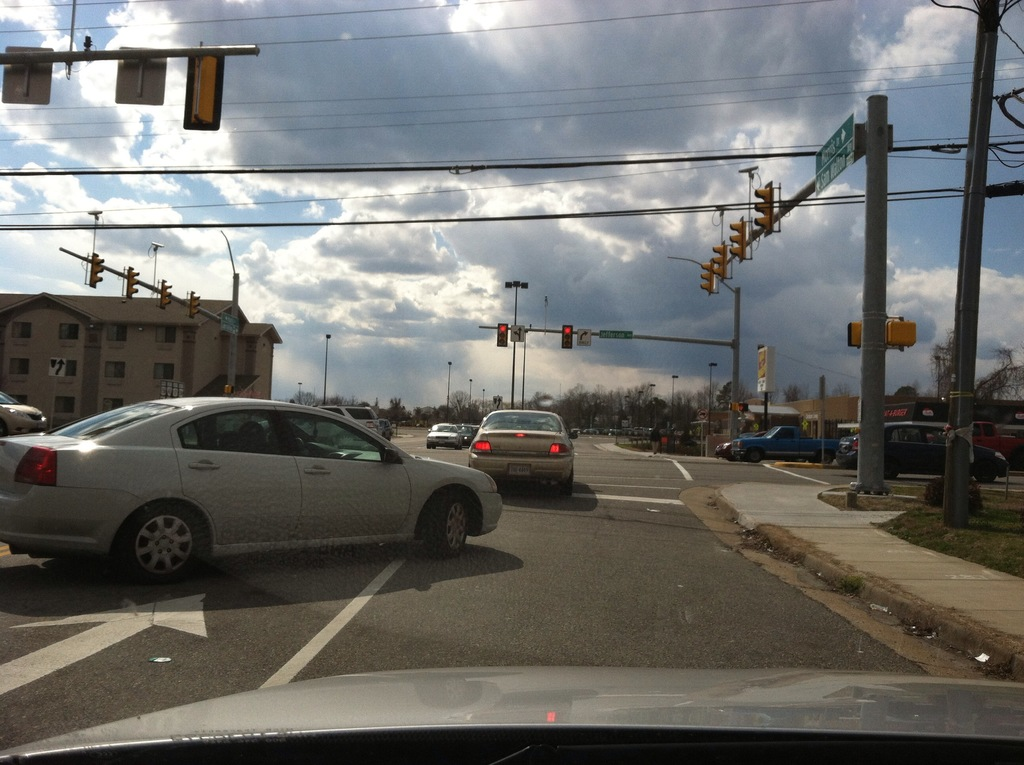red_light: (498, 322, 510, 335), (562, 325, 573, 336)
